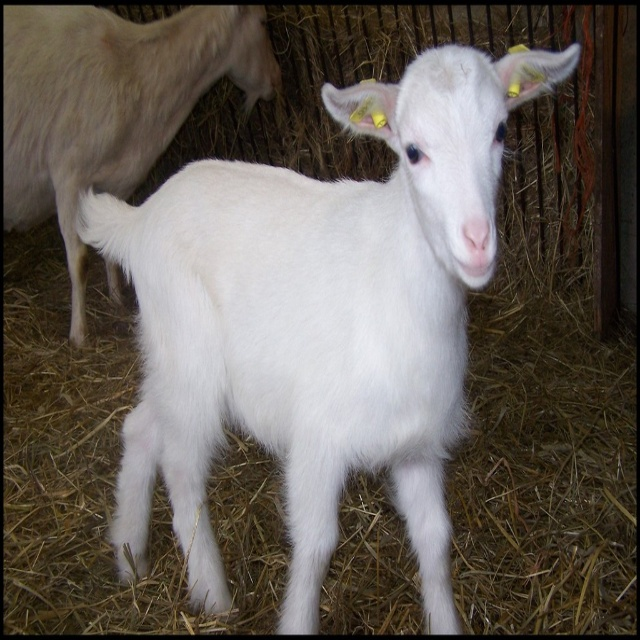Goat: (76, 43, 581, 635), (3, 5, 283, 355)
